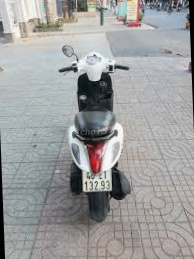Bien-so: (82, 168, 113, 192)
